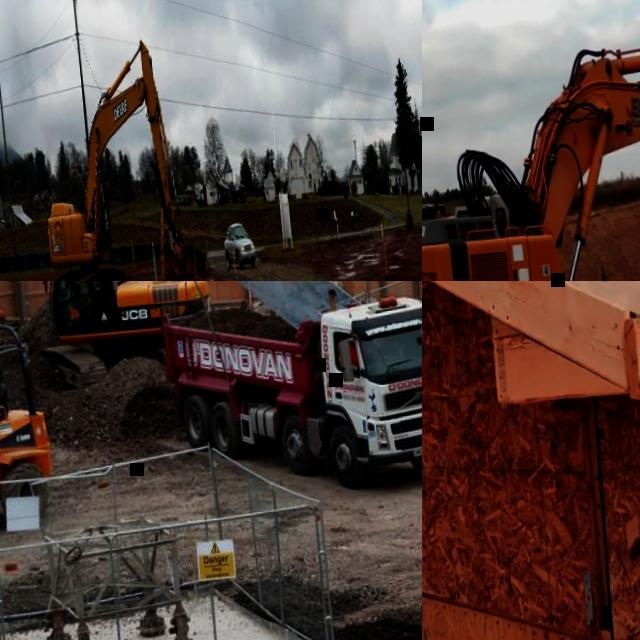NO-Hardhat: (61, 281, 70, 288)
Person: (61, 281, 91, 314)
Safety Vest: (72, 281, 91, 304)
machinery: (152, 281, 422, 508), (422, 31, 640, 281), (29, 28, 211, 281), (0, 281, 219, 404), (0, 318, 56, 560)
vehicle: (220, 220, 255, 270)
